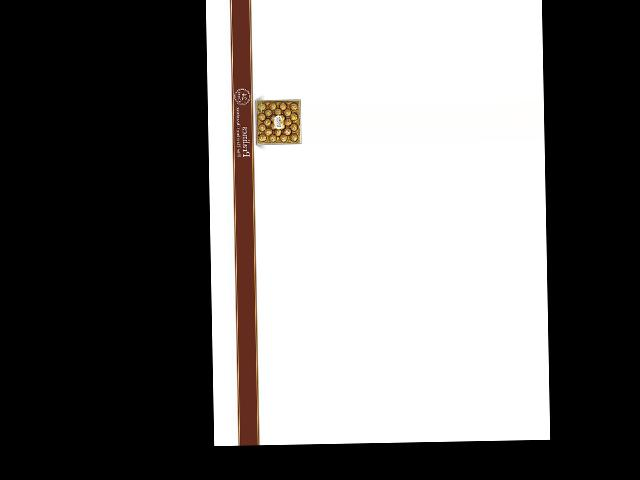chocolate: (253, 96, 304, 146)
